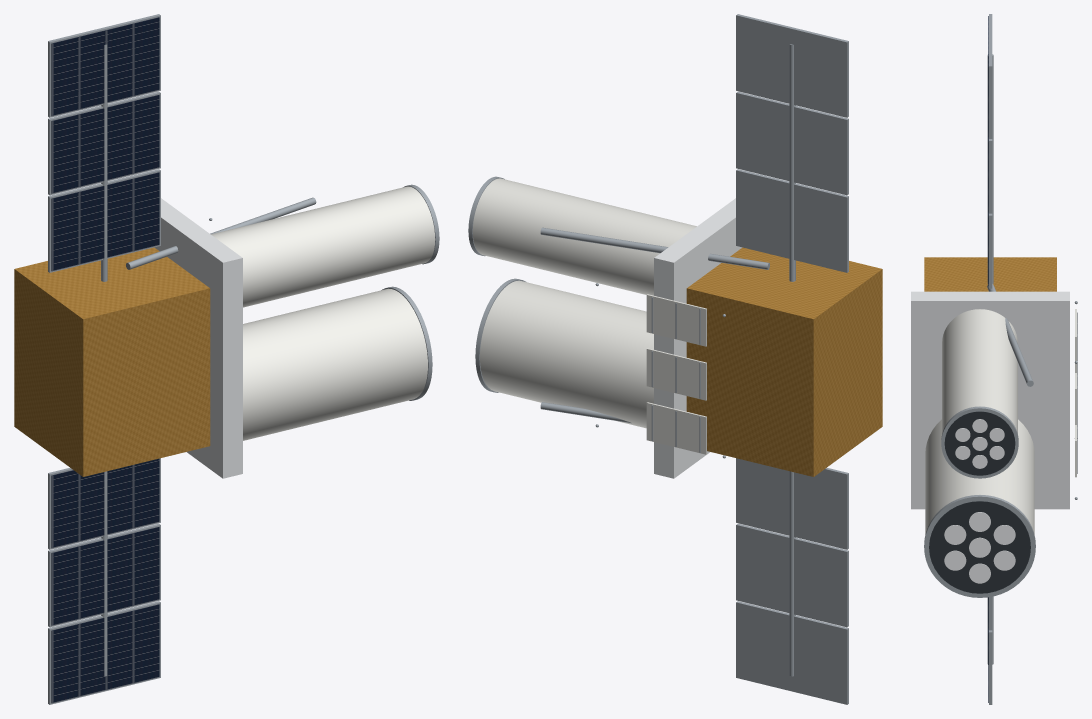
The model's file is spektr-rg-source.glb.
The picture shows the model from 3 angles, left to right: view 1: azimuth 30°, elevation 25°; view 2: azimuth 150°, elevation 25°; view 3: azimuth 270°, elevation 25°; orthographic projection. The views are drawn at different scales.
Visible parts, largest first — view 1: Solar cells (×6), Navigator service module, eROSITA thermal tube, ART-XC thermal tube, Instrument platform, Solar array frame (×6), Array support (×2), Payload support, eROSITA aperture rim; view 2: Solar array frame (×6), Navigator service module, eROSITA thermal tube, ART-XC thermal tube, Radiator tile (×3), Instrument platform, Array support (×2), Payload support, eROSITA aperture rim; view 3: Instrument platform, ART-XC thermal tube, eROSITA thermal tube, eROSITA aperture, Navigator service module, ART-XC aperture, eROSITA aperture rim, Solar array frame (×4), ART-XC aperture rim, Array support, Payload support, eROSITA mirror module 2 (+6 smaller).
Part boxes in pixels (bbox=[...]): Solar cells (×6): bbox=[51, 17, 159, 703]; Navigator service module: bbox=[14, 247, 210, 476]; eROSITA thermal tube: bbox=[243, 288, 427, 440]; ART-XC thermal tube: bbox=[211, 186, 435, 307]; Instrument platform: bbox=[154, 198, 242, 478]; Solar array frame (×6): bbox=[48, 14, 160, 704]; Array support (×2): bbox=[101, 44, 107, 676]; Payload support: bbox=[126, 197, 316, 269]; eROSITA aperture rim: bbox=[381, 286, 432, 400]; Solar array frame (×6): bbox=[736, 14, 848, 704]; Navigator service module: bbox=[686, 247, 882, 476]; eROSITA thermal tube: bbox=[480, 280, 653, 428]; ART-XC thermal tube: bbox=[472, 178, 696, 295]; Radiator tile (×3): bbox=[646, 294, 706, 454]; Instrument platform: bbox=[654, 198, 742, 478]; Array support (×2): bbox=[789, 44, 795, 676]; Payload support: bbox=[540, 227, 769, 269]; eROSITA aperture rim: bbox=[475, 278, 525, 392]; Instrument platform: bbox=[911, 291, 1069, 509]; ART-XC thermal tube: bbox=[942, 309, 1017, 433]; eROSITA thermal tube: bbox=[925, 419, 1034, 534]; eROSITA aperture: bbox=[929, 501, 1030, 593]; Navigator service module: bbox=[924, 257, 1056, 291]; ART-XC aperture: bbox=[944, 411, 1015, 475]; eROSITA aperture rim: bbox=[924, 495, 1035, 597]; Solar array frame (×4): bbox=[989, 14, 992, 704]; ART-XC aperture rim: bbox=[941, 406, 1018, 478]; Array support: bbox=[987, 54, 993, 283]; Payload support: bbox=[987, 284, 1033, 386]; eROSITA mirror module 2: bbox=[944, 550, 966, 570].
Size of the model in its own units: 4.62 by 7.97 by 1.89.
7 materials, 2 textured.
